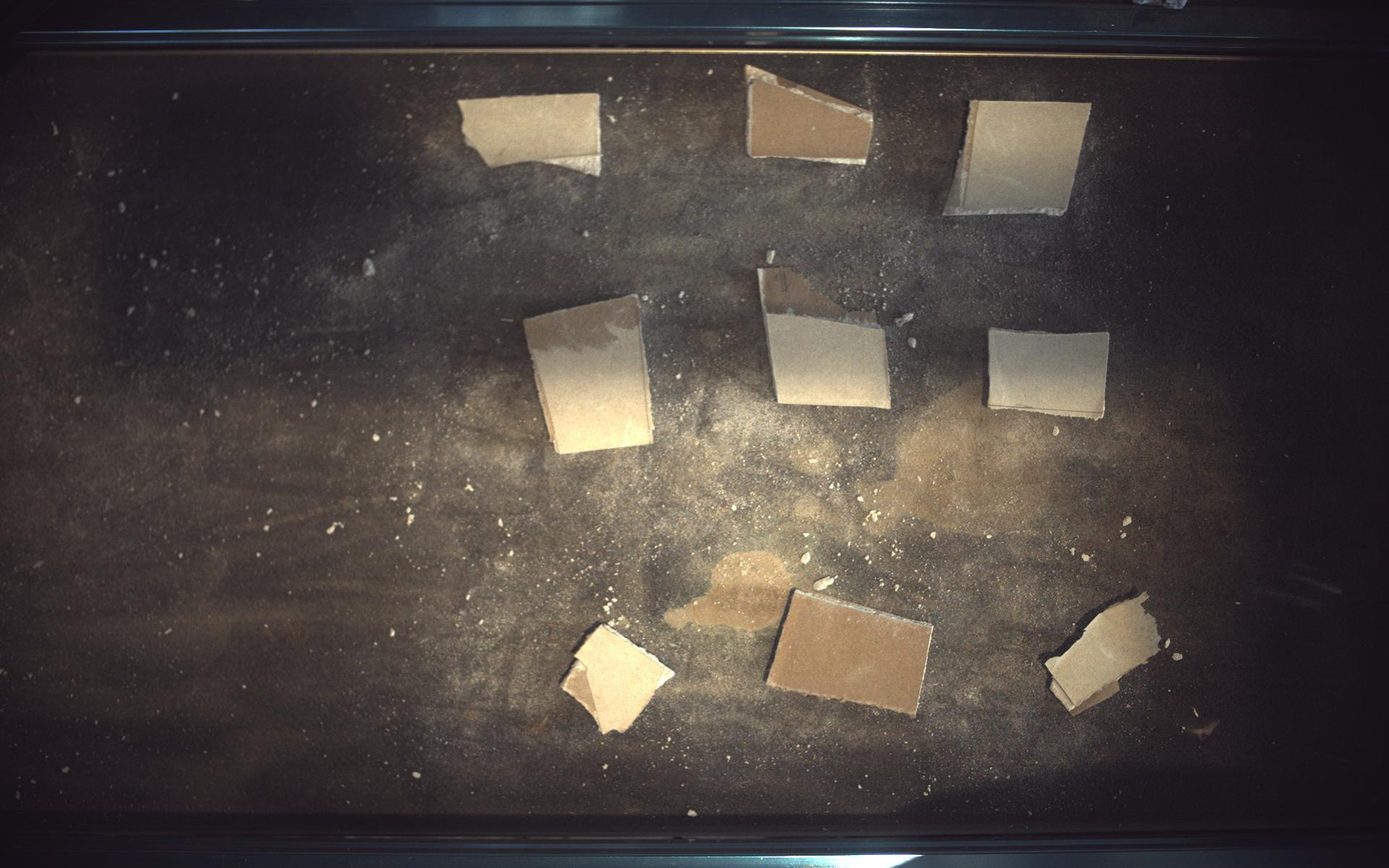gypsum_board: (768, 591, 934, 717), (524, 294, 654, 454), (760, 268, 893, 409), (946, 99, 1094, 215), (1048, 593, 1163, 716), (747, 64, 875, 163), (561, 625, 675, 735), (459, 93, 602, 175), (990, 328, 1112, 419)
